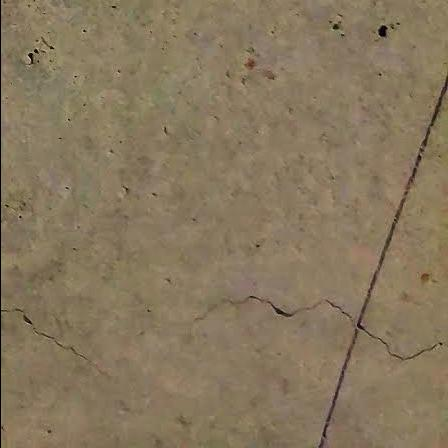crack: (189, 283, 448, 366), (0, 297, 107, 385)
